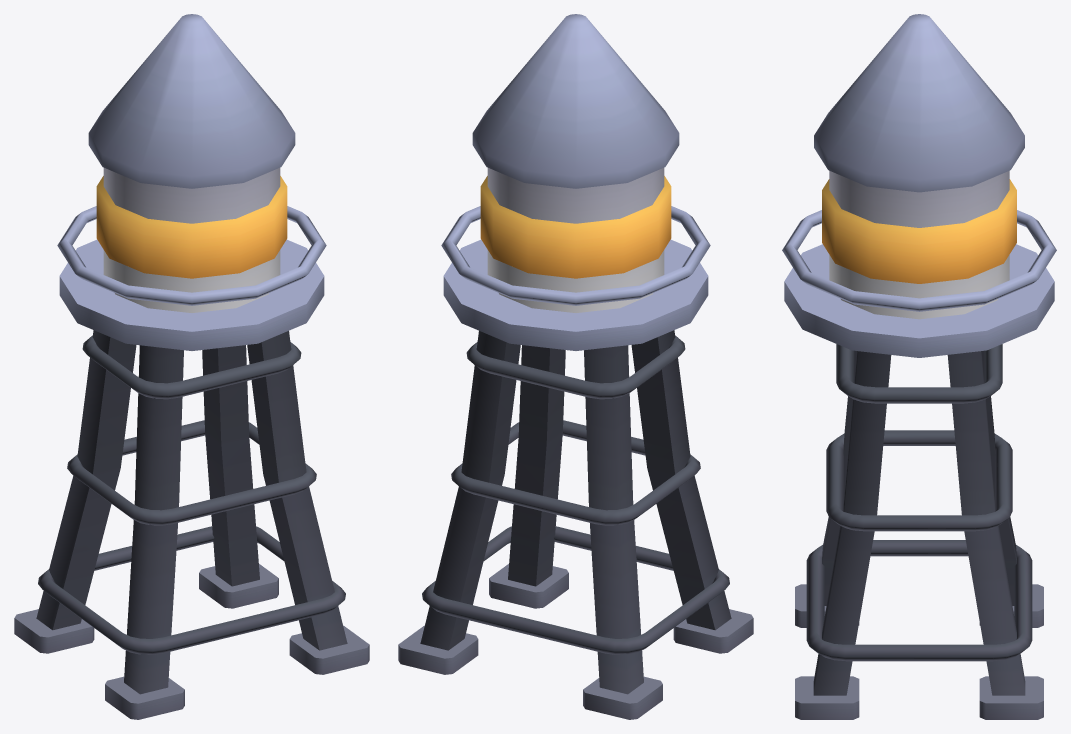
File: water_tower2.glb
3 renders of one model, left to right at view 1: azimuth 30°, elevation 25°; view 2: azimuth 150°, elevation 25°; view 3: azimuth 270°, elevation 25°, orthographic. The views are drawn at different scales.
Visible parts, largest first — view 1: water-tower; view 2: water-tower; view 3: water-tower.
Boxes of the visible parts, bbox=[...] form: water-tower: bbox=[14, 14, 369, 719]; water-tower: bbox=[398, 14, 753, 719]; water-tower: bbox=[782, 14, 1056, 719].
Bounding box in the file's own units: 0.8522 × 2.14 × 0.8318.
1 material, 1 textured.
